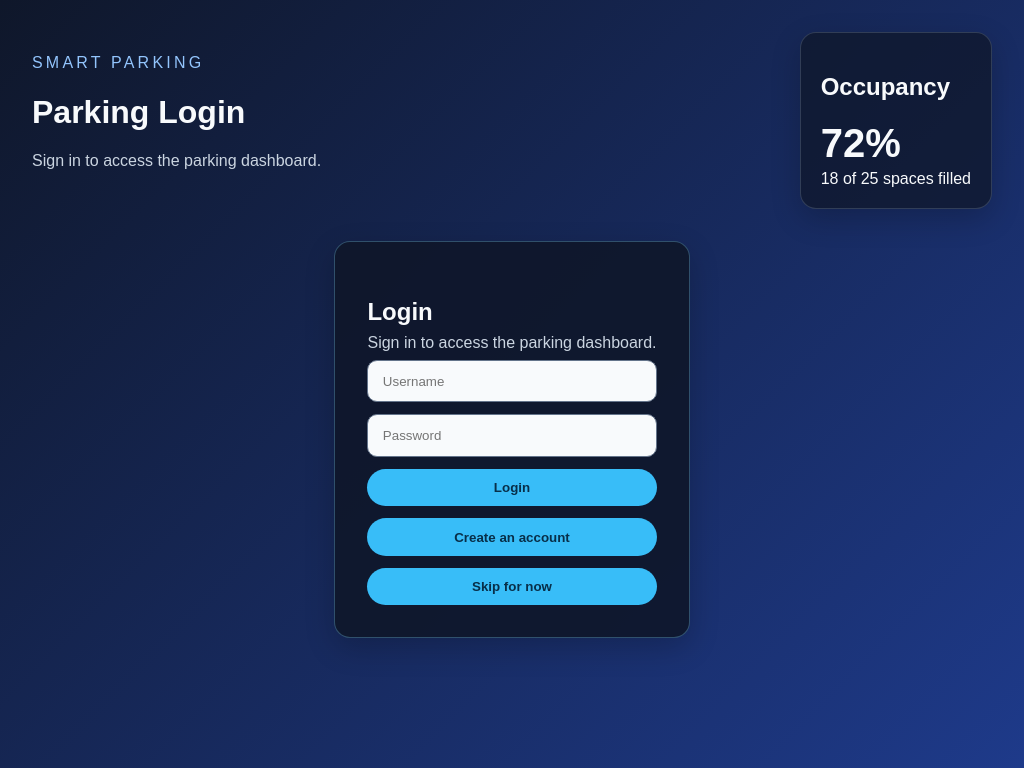
Test: shows the login view and allows switching to registration
Expected: the heading "Parking Login" is shown, [32, 94, 245, 130]
Click the button "Create an account".
click(512, 537)  # box [368, 518, 657, 556]
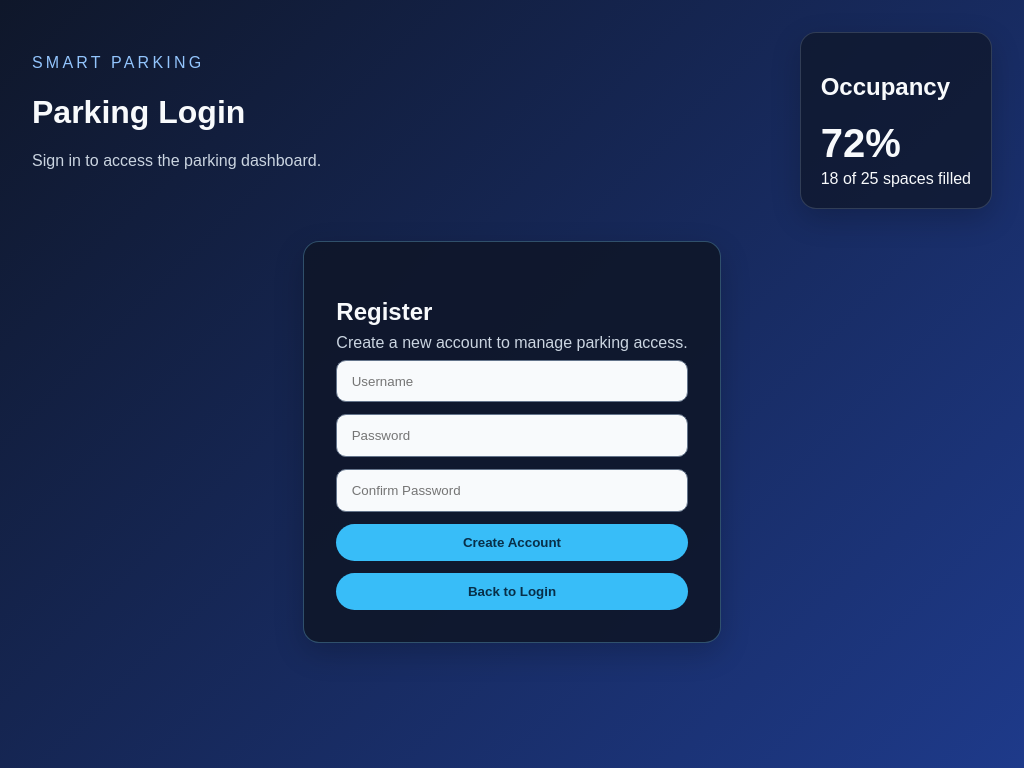
Now the heading "Register" is shown, box [336, 298, 432, 325]
Now the button "Create Account" is shown, box [336, 524, 688, 561]
